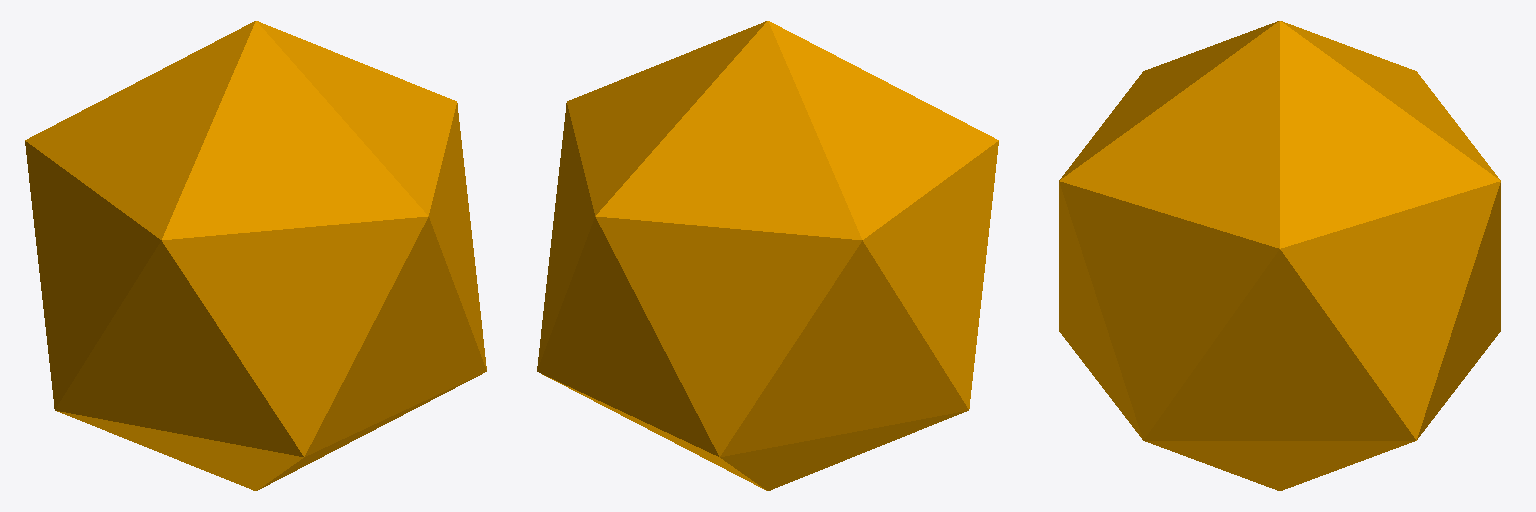
robot.urdf — beaten_egg_particle:
<?xml version="1.0"?>
<robot name="beaten_egg_particle">
  <link name="particle">
    <inertial>
        <origin rpy="0 0 0" xyz="0 0 0"/>
        <mass value="0.001"/>
        <inertia ixx="3.6e-6" ixy="0" ixz="0" iyy="3.6e-6" iyz="0" izz="3.6e-6"/>
    </inertial>
    <visual>
      <geometry>
        <mesh filename="beaten_egg_particle.obj"/>
      </geometry>
    </visual>
    <collision>
      <geometry>
        <mesh filename="beaten_egg_particle.obj"/>
      </geometry>
    </collision>
  </link>
</robot>

--- What the picture shows (computed from the rendered views, not written in the file) ---
3 views of the same robot in one strip: view 1: azimuth 30°, elevation 25°; view 2: azimuth 150°, elevation 25°; view 3: azimuth 270°, elevation 25° (orthographic).
Robot: beaten_egg_particle — 1 links, 0 joints (none); root link particle; default pose: every joint at zero.
Links seen in each view (by area): view 1: particle; view 2: particle; view 3: particle.
Link boxes in pixels (x1,y1,x2,y2): particle: (25, 21, 486, 490); particle: (537, 21, 998, 490); particle: (1059, 21, 1500, 490).
Size in the robot's own frame: 0.0268 by 0.0255 by 0.03 metres.
Meshes: 1 distinct files referenced, 1 mesh visuals loaded (1 OBJ).
